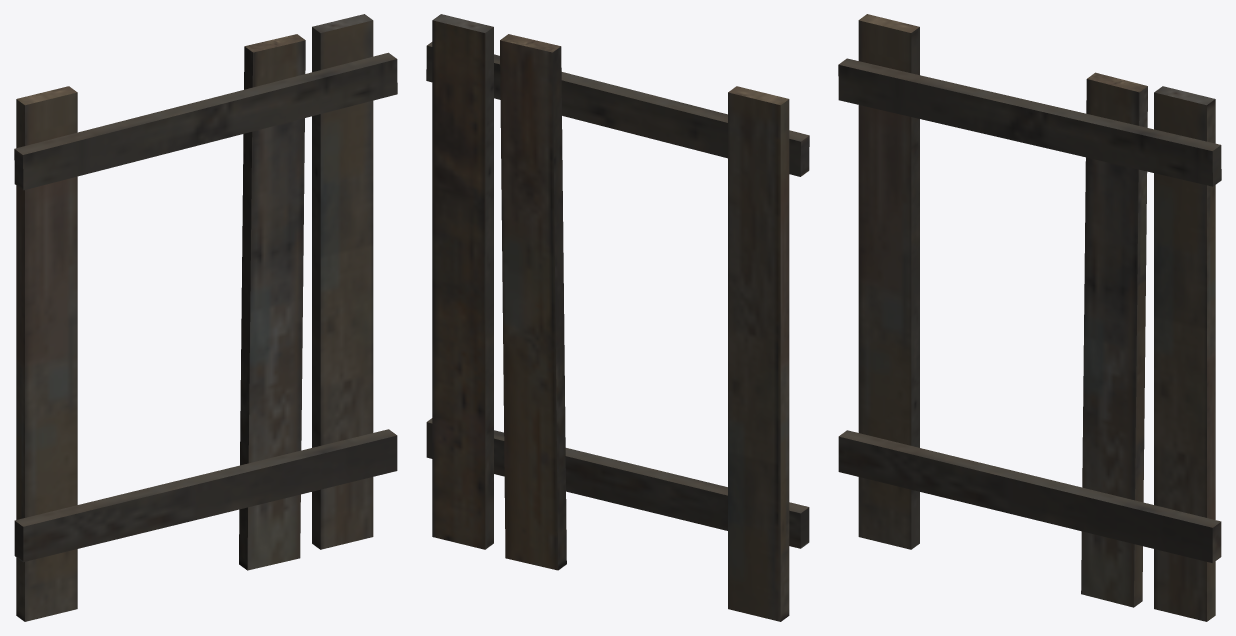
Rendered from bz_brk_wood_01.fbx.
3 renders of one model, left to right at view 1: azimuth 30°, elevation 25°; view 2: azimuth 150°, elevation 25°; view 3: azimuth 330°, elevation 25°, orthographic.
Visible parts, largest first — view 1: br_wood1_03, br_wood1_04, br_wood1_05, br_wood1_01, br_wood1_02; view 2: br_wood1_04, br_wood1_05, br_wood1_03, br_wood1_01, br_wood1_02; view 3: br_wood1_05, br_wood1_03, br_wood1_04, br_wood1_02, br_wood1_01.
Boxes of the visible parts, x1,y1,x2,y2 form: br_wood1_03: [16, 86, 77, 621]; br_wood1_04: [239, 34, 305, 570]; br_wood1_05: [312, 14, 373, 549]; br_wood1_01: [14, 52, 397, 190]; br_wood1_02: [14, 429, 397, 562]; br_wood1_04: [500, 34, 566, 570]; br_wood1_05: [432, 14, 493, 549]; br_wood1_03: [728, 86, 789, 621]; br_wood1_01: [426, 42, 809, 176]; br_wood1_02: [426, 418, 809, 548]; br_wood1_05: [1154, 86, 1215, 621]; br_wood1_03: [858, 14, 919, 549]; br_wood1_04: [1081, 72, 1147, 607]; br_wood1_02: [838, 430, 1221, 563]; br_wood1_01: [838, 58, 1221, 186].
Size of the model in its own units: 0.9766 by 1.3 by 0.0803.
